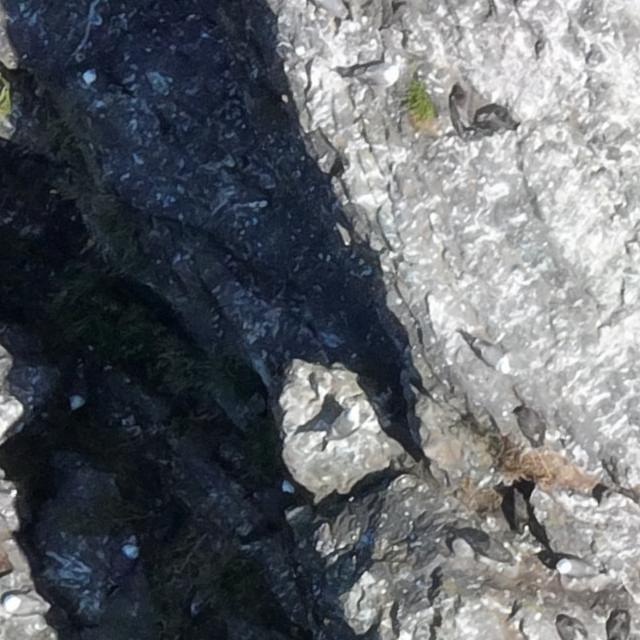umineko: (471, 333, 514, 374), (108, 543, 139, 593), (342, 60, 399, 86), (328, 404, 361, 447), (69, 359, 88, 411), (254, 477, 296, 497), (81, 68, 118, 88), (561, 561, 590, 577)
